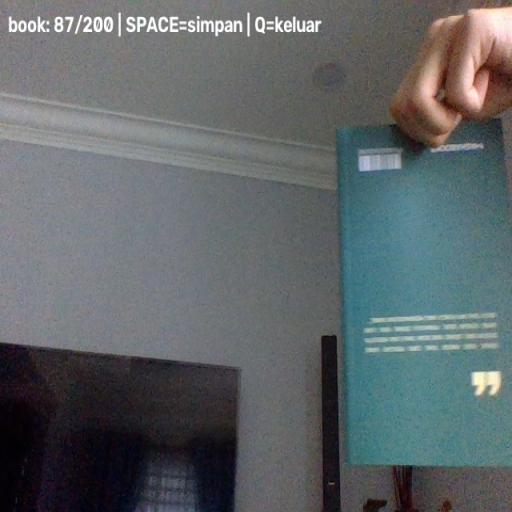Book: (337, 121, 512, 468)
